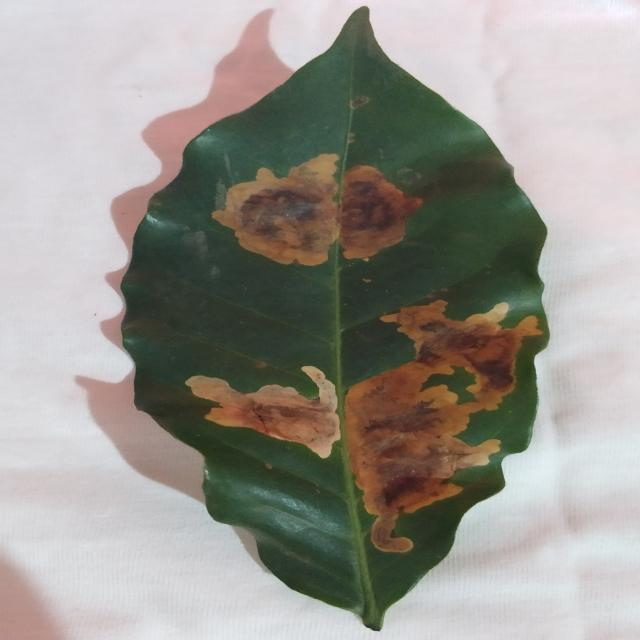Plaga-Minador: (118, 8, 551, 633)
